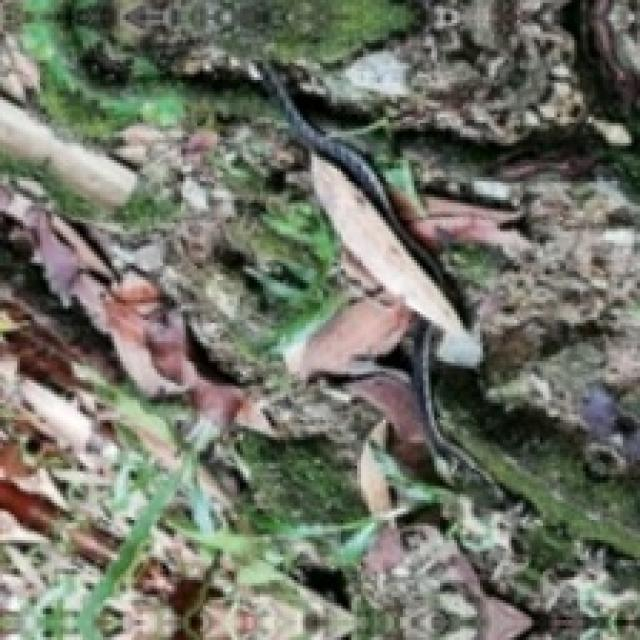king cobra: (257, 63, 480, 463)
